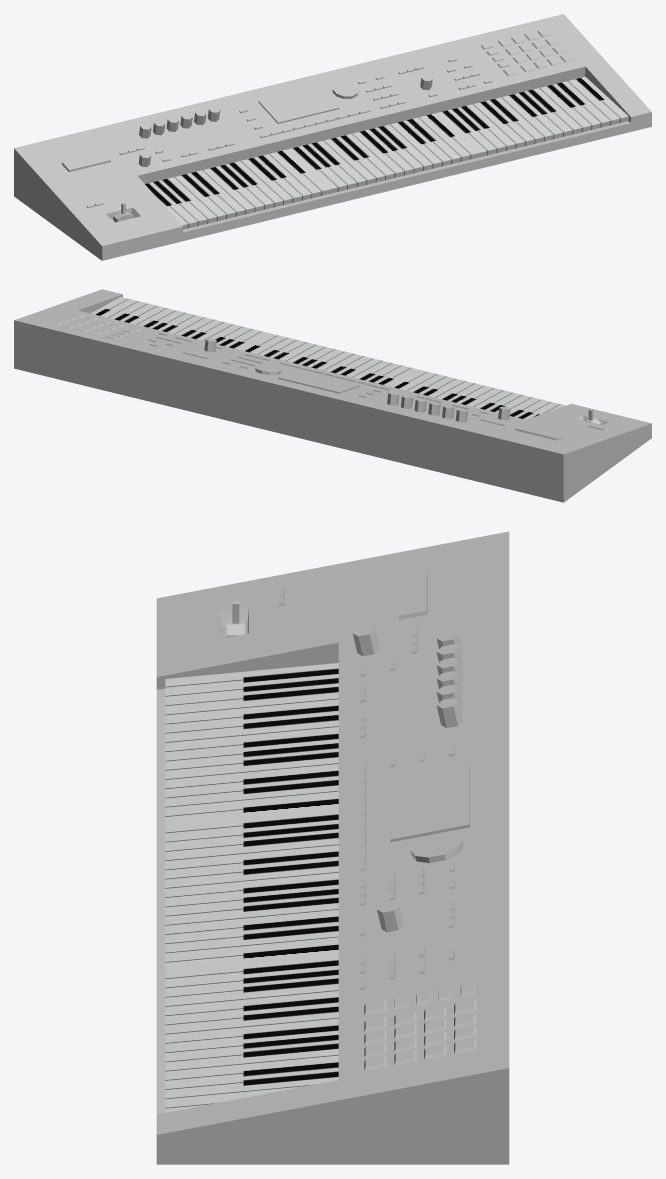
The model's file is Synth.fbx.
The picture shows the model from 3 angles, top to bottom: view 1: azimuth 30°, elevation 25°; view 2: azimuth 150°, elevation 25°; view 3: azimuth 270°, elevation 25°; orthographic projection. The views are drawn at different scales.
Parts seen in each view (by area): view 1: Synth, Synth Key; view 2: Synth, Synth Key; view 3: Synth, Synth Key.
Boxes of the visible parts, x1,y1,x2,y2 form: Synth: [14, 14, 651, 260]; Synth Key: [145, 76, 628, 229]; Synth: [14, 289, 651, 502]; Synth Key: [91, 297, 565, 419]; Synth: [156, 531, 509, 1164]; Synth Key: [165, 663, 338, 1112].
Bounding box in the file's own units: 108 × 10.11 × 30.
